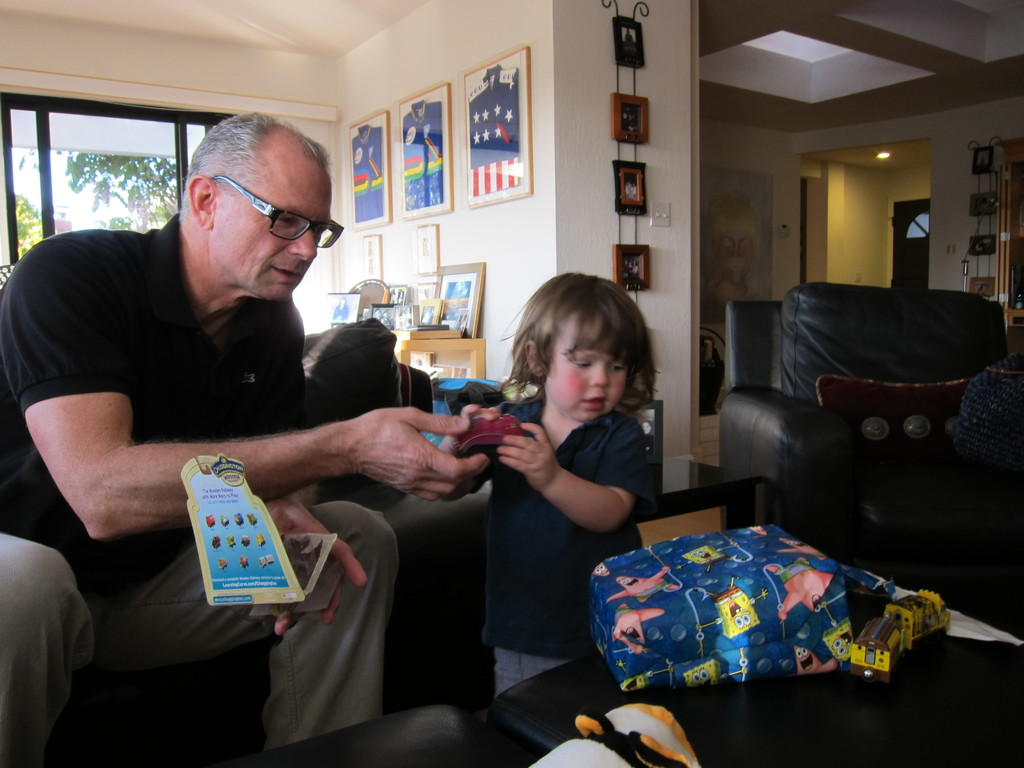Couch: (650, 291, 995, 616)
